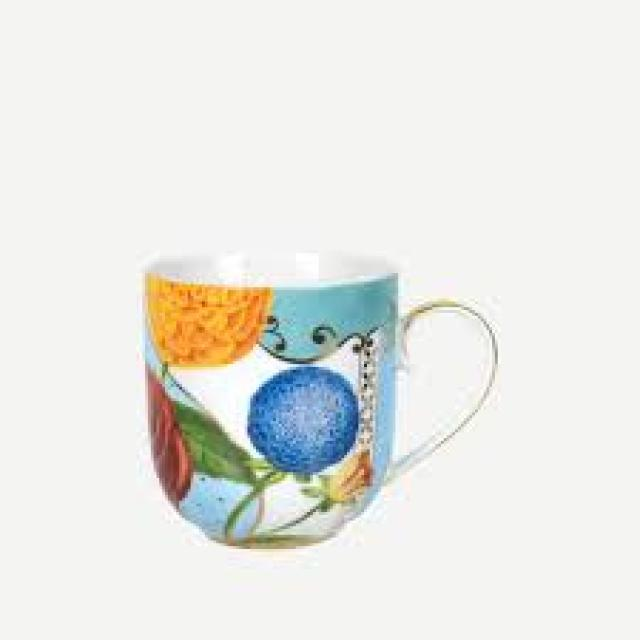taza: (142, 245, 499, 551)
